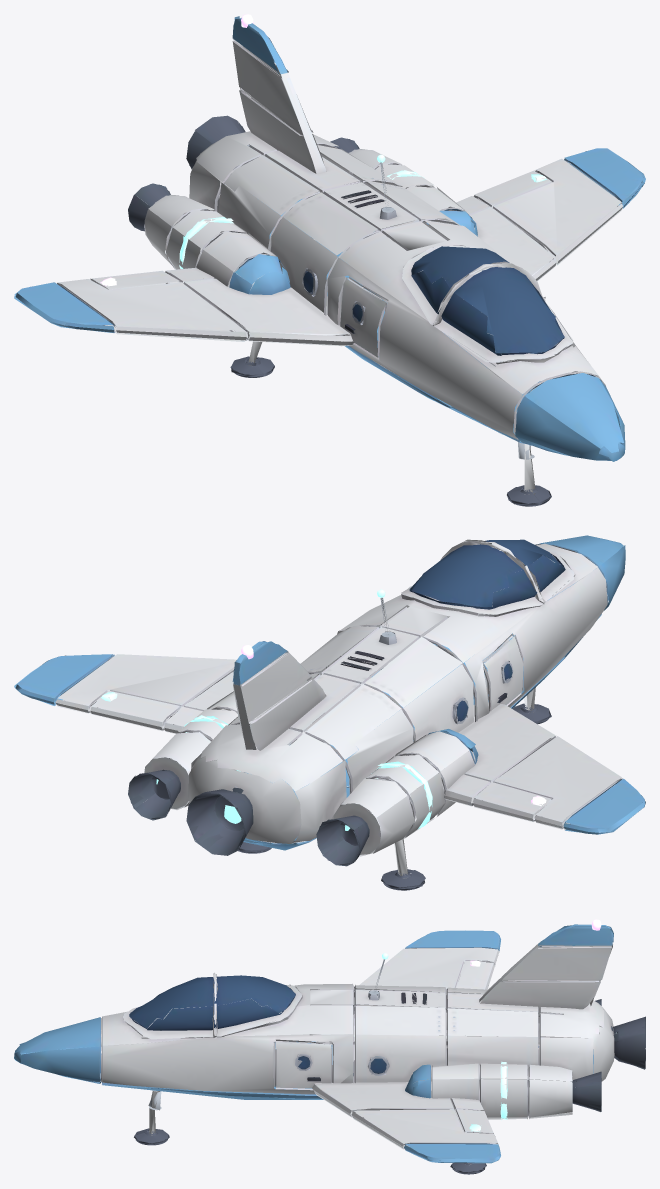
File: RiftShuttle.glb
3 renders of one model, top to bottom at view 1: azimuth 30°, elevation 25°; view 2: azimuth 150°, elevation 25°; view 3: azimuth 270°, elevation 25°, orthographic. The views are drawn at different scales.
Visible parts, largest first — view 1: sci-fi-spaceship_body, sci-fi-spaceship_gear_nose, sci-fi-spaceship_gear_right; view 2: sci-fi-spaceship_body, sci-fi-spaceship_gear_right, sci-fi-spaceship_gear_nose, sci-fi-spaceship_pod_ring_glow_r; view 3: sci-fi-spaceship_body, sci-fi-spaceship_gear_nose.
Part boxes in pixels (x1,y1,x2,y2): sci-fi-spaceship_body: [14, 16, 645, 461]; sci-fi-spaceship_gear_nose: [507, 412, 551, 506]; sci-fi-spaceship_gear_right: [230, 341, 274, 377]; sci-fi-spaceship_body: [14, 535, 645, 866]; sci-fi-spaceship_gear_right: [381, 839, 425, 890]; sci-fi-spaceship_gear_nose: [512, 687, 551, 724]; sci-fi-spaceship_pod_ring_glow_r: [371, 761, 432, 829]; sci-fi-spaceship_body: [14, 924, 645, 1163]; sci-fi-spaceship_gear_nose: [134, 1090, 169, 1145].
Size of the model in its own units: 12.4 by 5.5 by 14.35.
17 materials, 1 textured.
